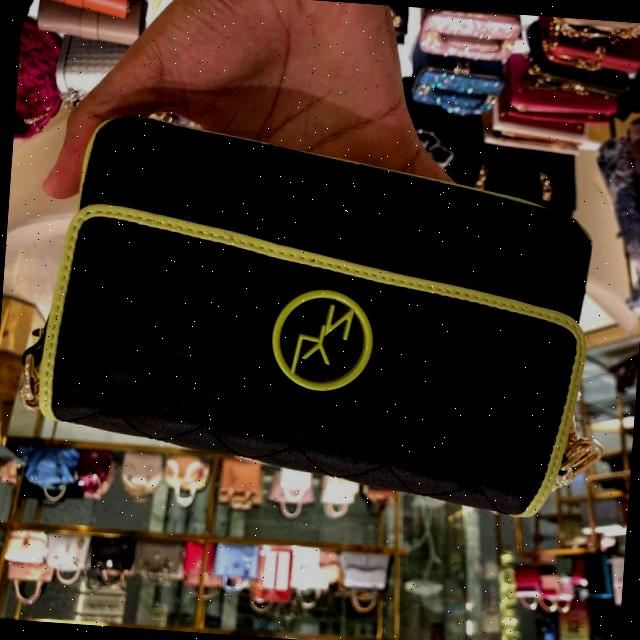Handbag: (26, 96, 602, 532)
